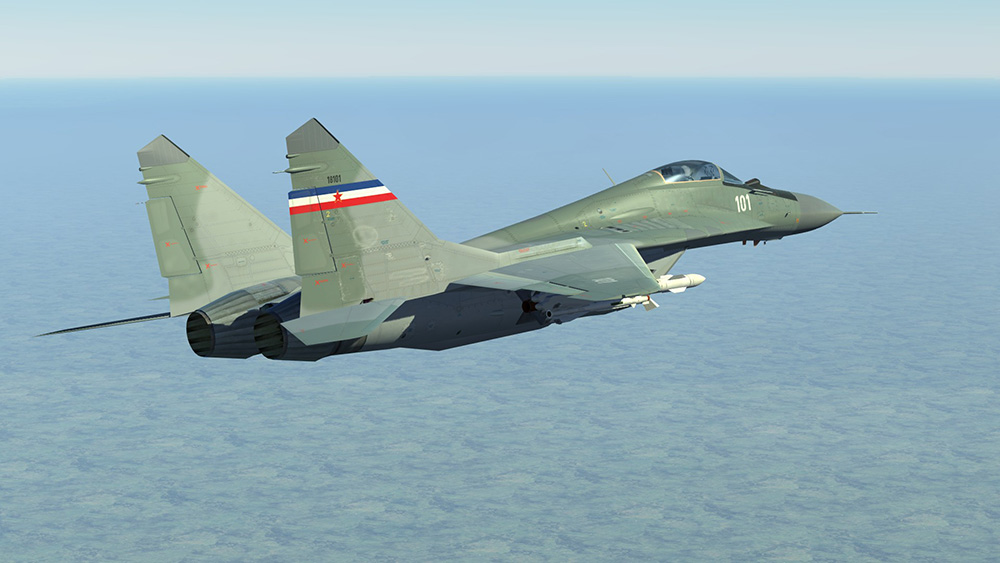Mig-29: (82, 90, 855, 353)
